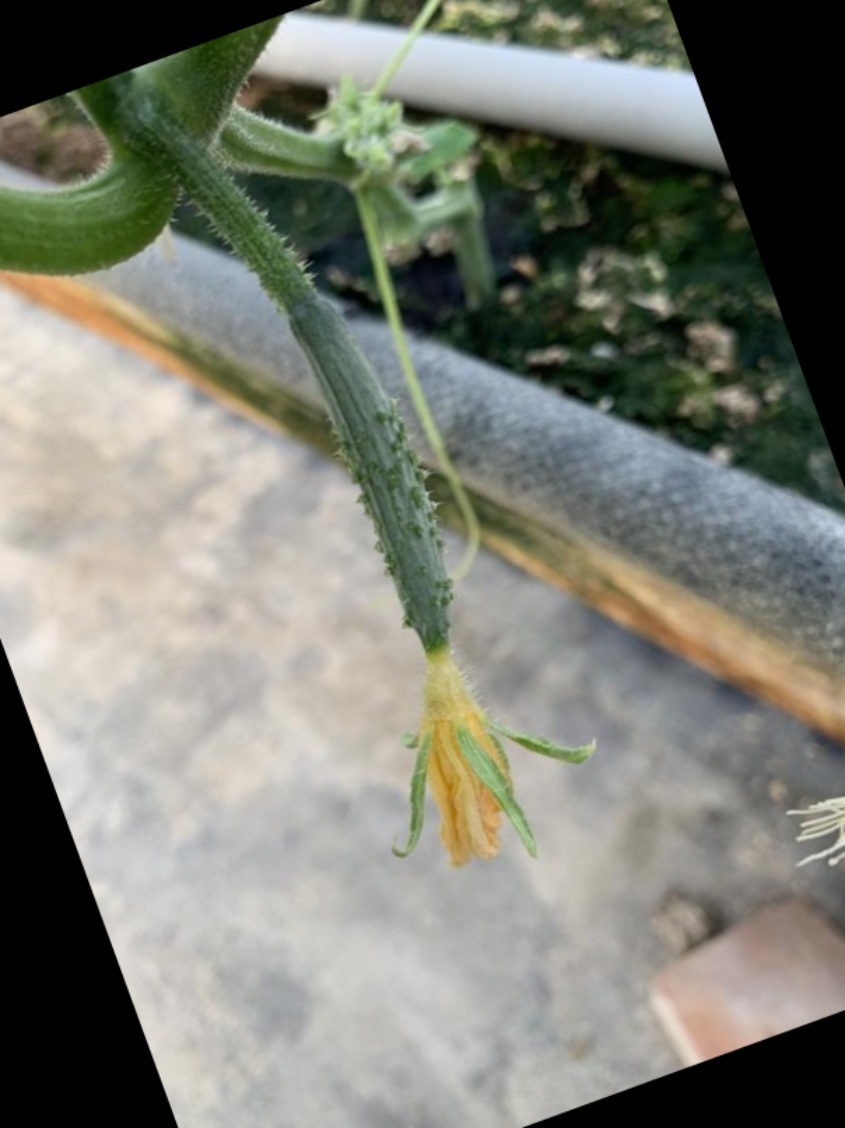bear: (251, 270, 591, 878)
